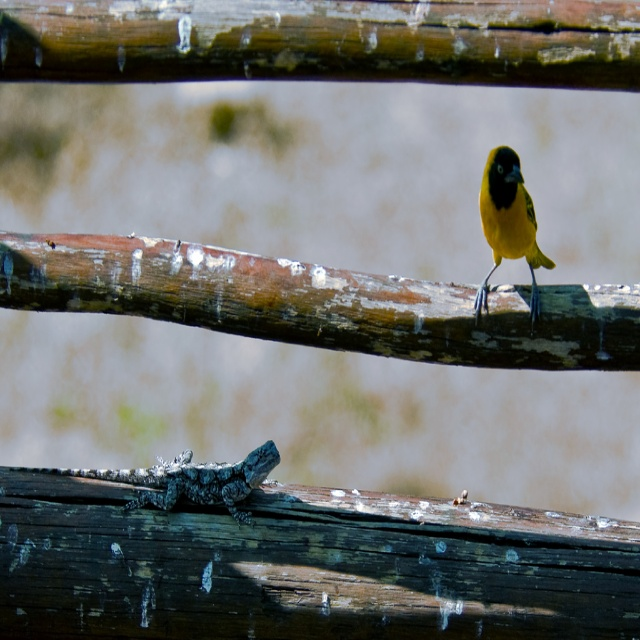Canary: (472, 144, 554, 323)
